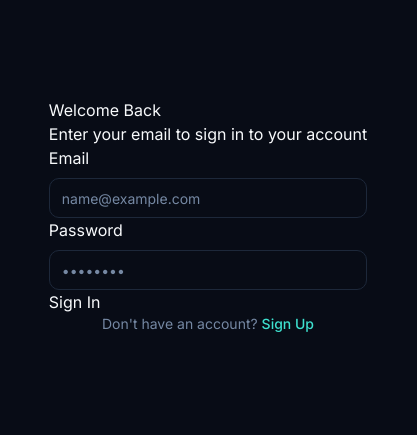
Test: Authentication › Sign In Page › should toggle between sign in and sign up forms
Expected: the field labelled "Email" is shown, [49,178,367,218]
Expected: the password field labelled "Password" is shown, [49,250,367,290]
Click the button "Sign Up".
click(288, 324)  # box [262,314,314,334]
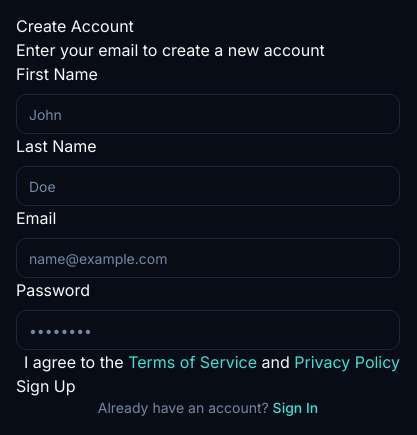
Expected: the heading "Create Account" is shown, [16,16,134,36]
Expected: the field with id "name" is shown, [16,94,400,134]
Expected: the field with id "last name" is shown, [16,166,400,206]
Click the button "Sign In".
click(296, 408)  # box [273,398,319,418]
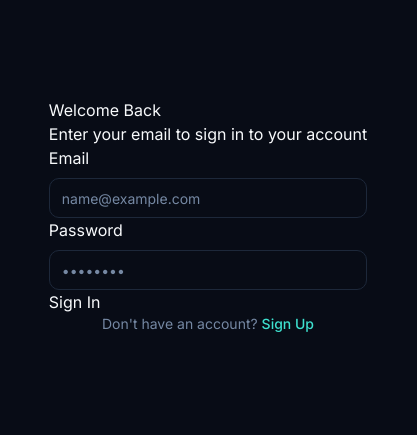
Expected: the field labelled "Email" is shown, [49,178,367,218]
Expected: the heading "Welcome Back" is shown, [49,100,161,120]
Expected: the button "Sign In" is shown, [49,290,100,314]
